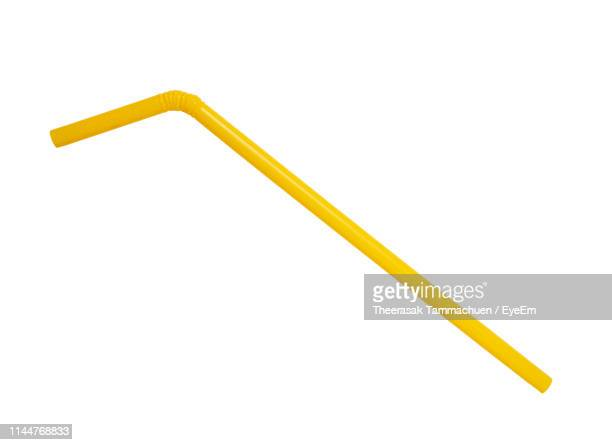Drinking Straw: (47, 85, 557, 397)
